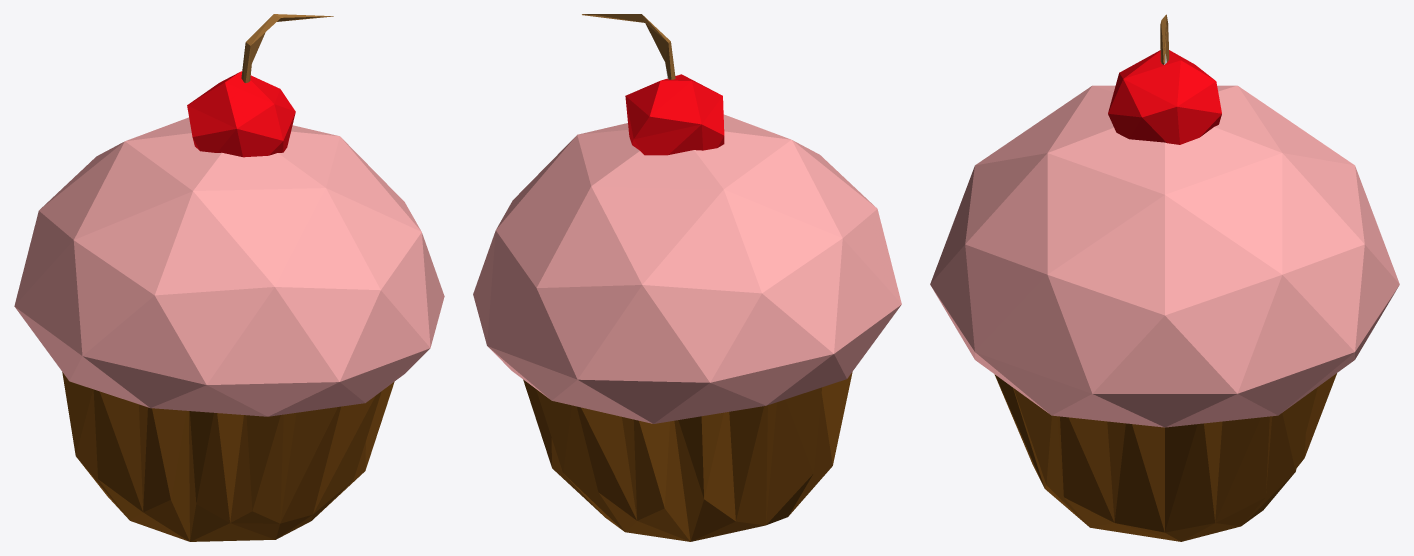
3 renders of one model, left to right at view 1: azimuth 30°, elevation 25°; view 2: azimuth 150°, elevation 25°; view 3: azimuth 270°, elevation 25°, orthographic. The views are drawn at different scales.
Visible parts, largest first — view 1: cupcakee; view 2: cupcakee; view 3: cupcakee.
Part boxes in pixels (bbox=[...]): cupcakee: bbox=[14, 14, 444, 541]; cupcakee: bbox=[473, 14, 901, 541]; cupcakee: bbox=[930, 14, 1399, 541].
Size of the model in its own units: 216 by 276 by 228.
